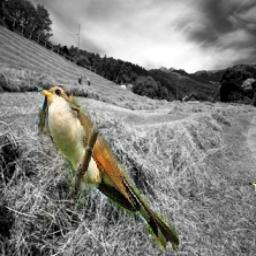Cuckoo: (38, 86, 179, 252), (250, 182, 256, 207)
